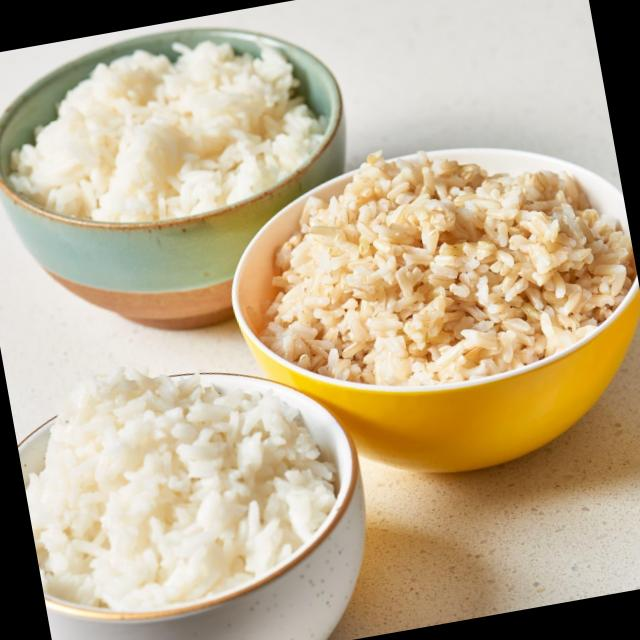rice: (270, 159, 633, 388), (27, 375, 339, 608), (18, 43, 320, 219)
